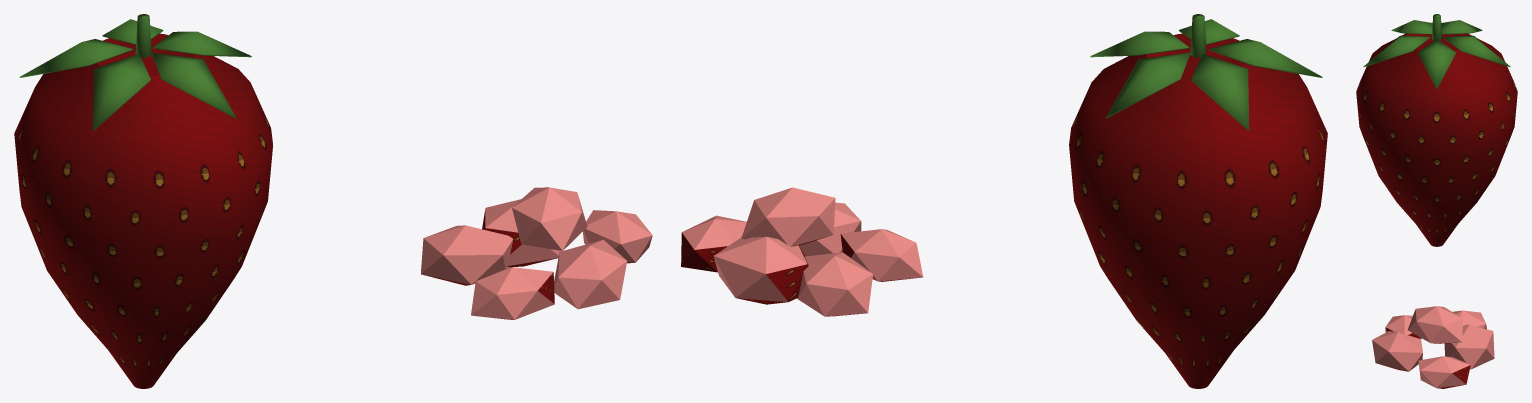
File: VLAB_fruit.fbx
The picture shows the model from 3 angles, left to right: view 1: azimuth 30°, elevation 25°; view 2: azimuth 150°, elevation 25°; view 3: azimuth 270°, elevation 25°; orthographic projection. The views are drawn at different scales.
Visible parts, largest first — view 1: VLAB_fruit_Fruit_VIS, VLAB_fruit_FruitPieces_VIS; view 2: VLAB_fruit_Fruit_VIS, VLAB_fruit_FruitPieces_VIS; view 3: VLAB_fruit_Fruit_VIS, VLAB_fruit_FruitPieces_VIS.
Boxes of the visible parts, x1,y1,x2,y2 form: VLAB_fruit_Fruit_VIS: (14,14,272,388); VLAB_fruit_FruitPieces_VIS: (421,187,652,319); VLAB_fruit_Fruit_VIS: (1069,14,1327,388); VLAB_fruit_FruitPieces_VIS: (681,187,923,316); VLAB_fruit_Fruit_VIS: (1356,14,1517,246); VLAB_fruit_FruitPieces_VIS: (1372,306,1494,388).
Size of the model in its own units: 0.0685 by 0.039 by 0.025.
